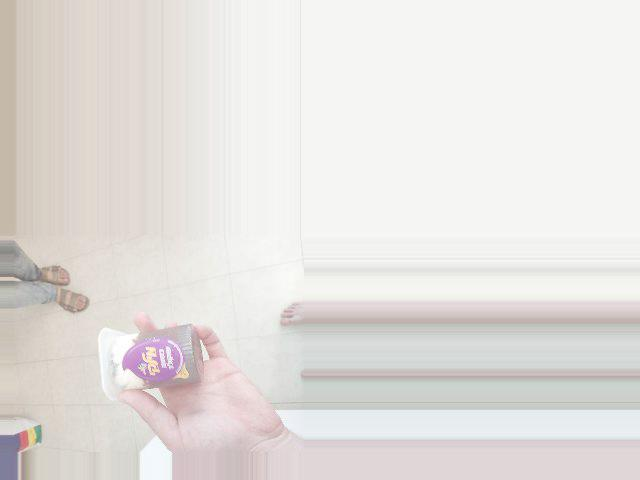milky: (99, 325, 218, 387)
